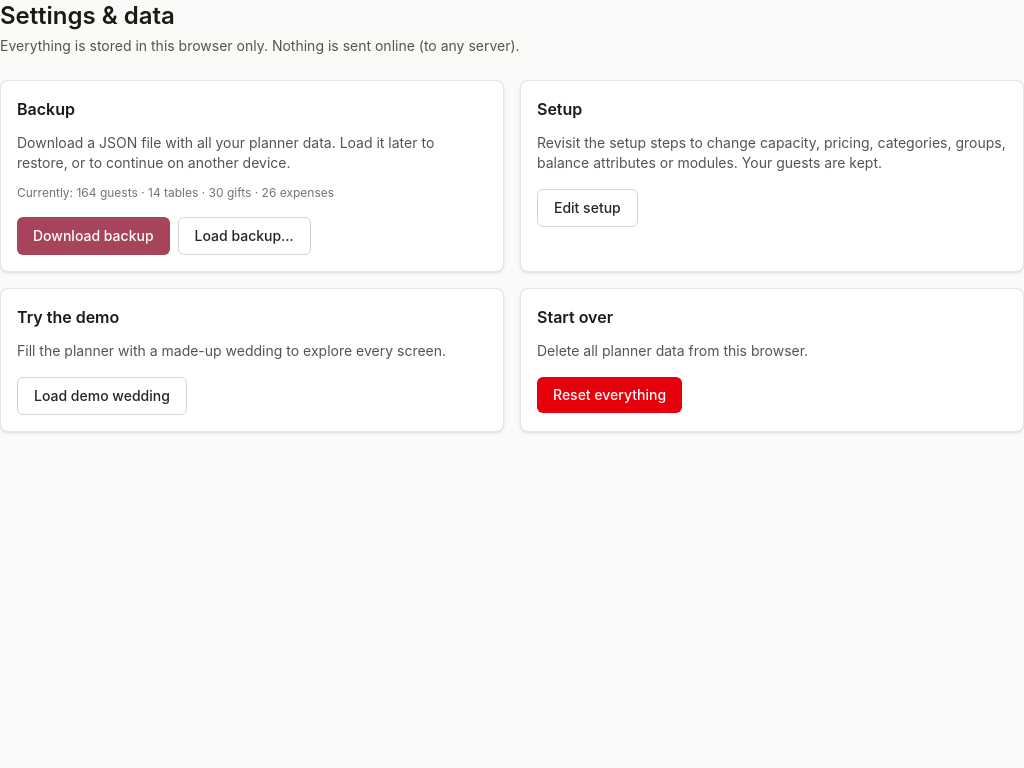
Test case: DataPage reset › cancelling keeps the data
Click the button "Reset everything" at (610, 395), box [537, 377, 682, 413]
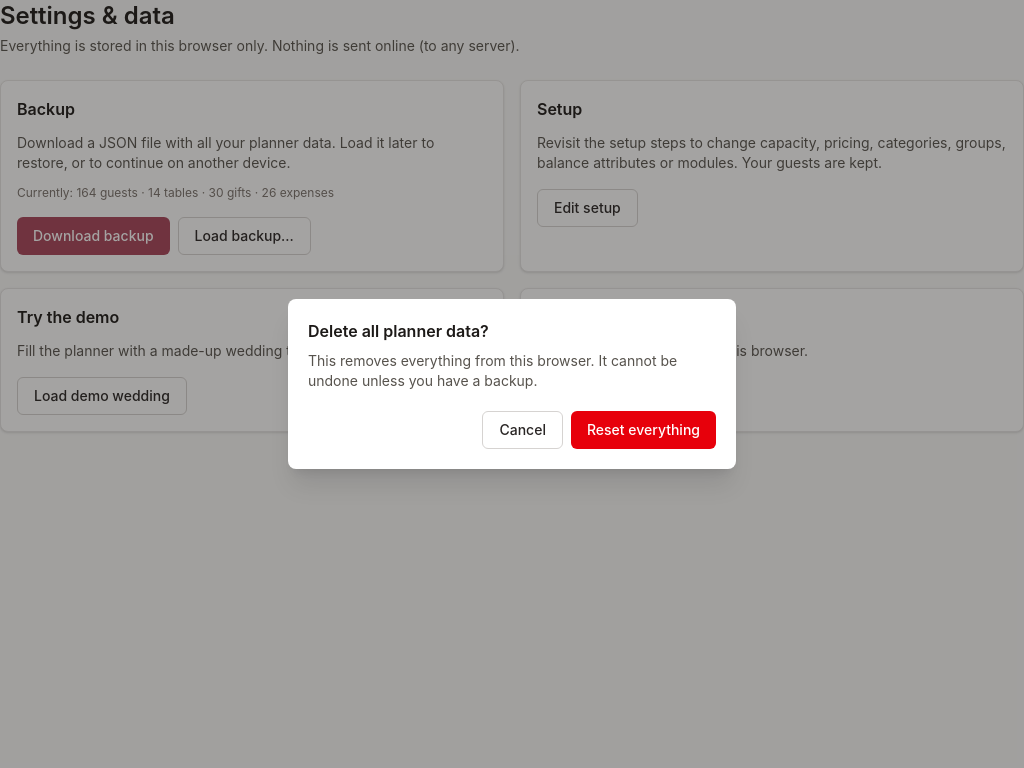
Click the button "Cancel" at (523, 430), box [482, 411, 563, 449]
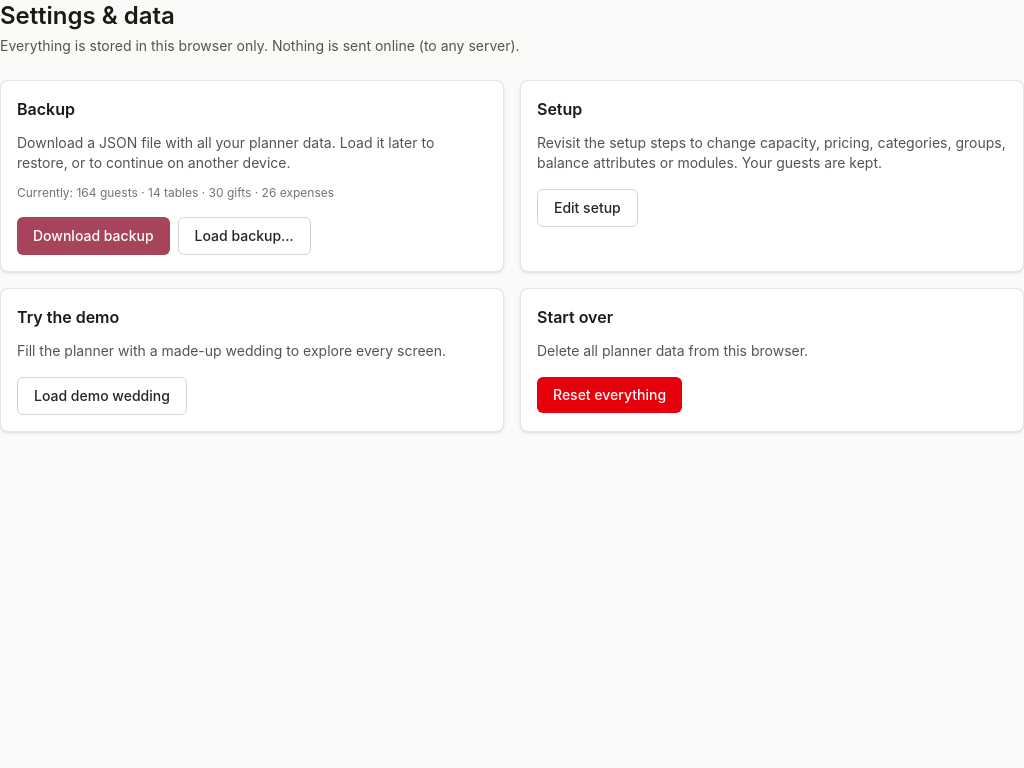
Expected: the dialog is gone
